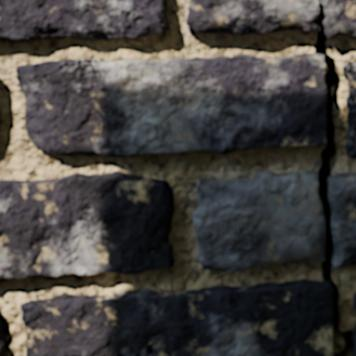brick: (17, 55, 326, 157), (22, 281, 333, 355), (0, 172, 174, 279), (0, 0, 166, 41), (344, 62, 355, 158), (0, 311, 6, 355), (354, 331, 355, 355)
broken_brick: (192, 170, 324, 272), (186, 0, 319, 35), (330, 173, 355, 270), (322, 0, 355, 39), (288, 262, 301, 264)
crack: (314, 0, 354, 355), (29, 59, 102, 82), (265, 259, 309, 265), (146, 340, 160, 355)
